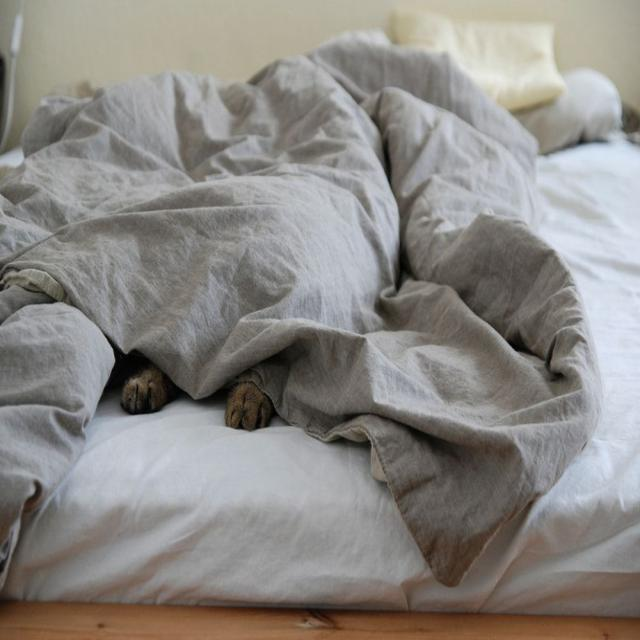blanket: (0, 37, 602, 584)
